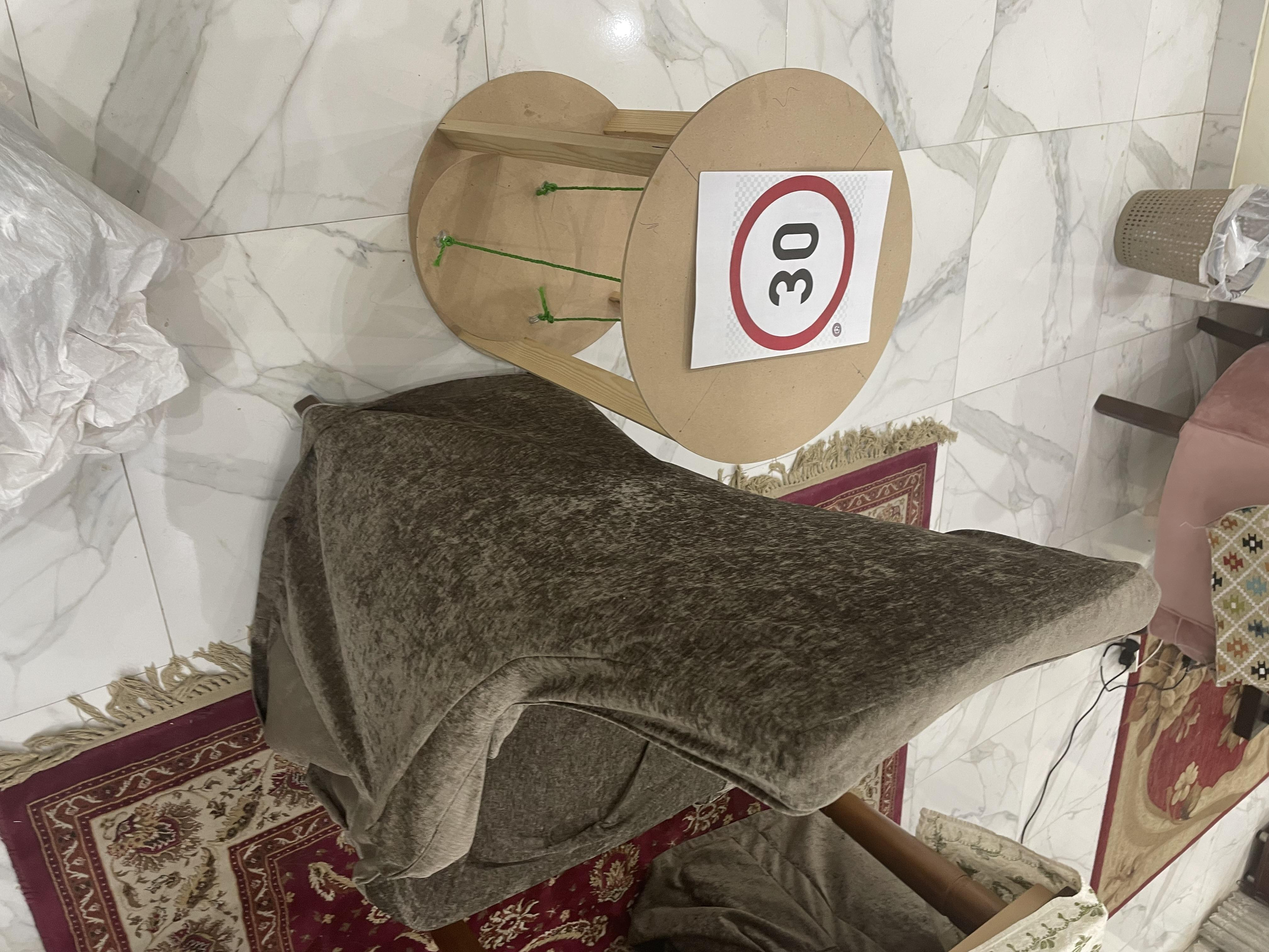30-speed: (798, 548, 1039, 640)
